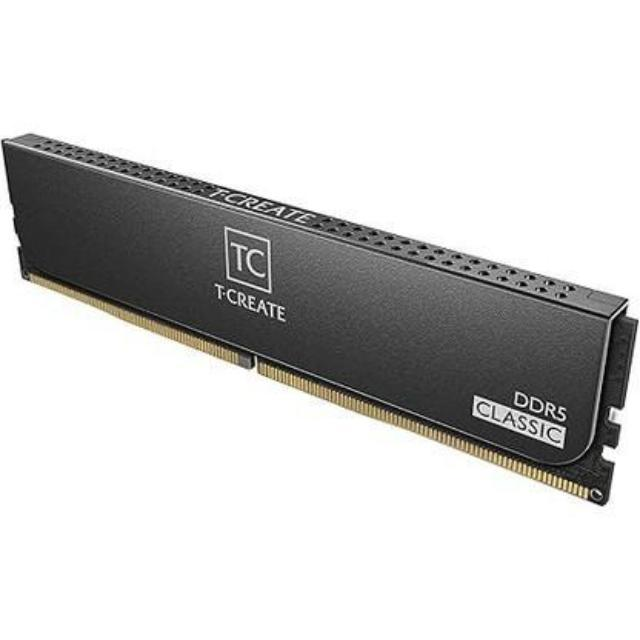RAM: (0, 120, 640, 506)
